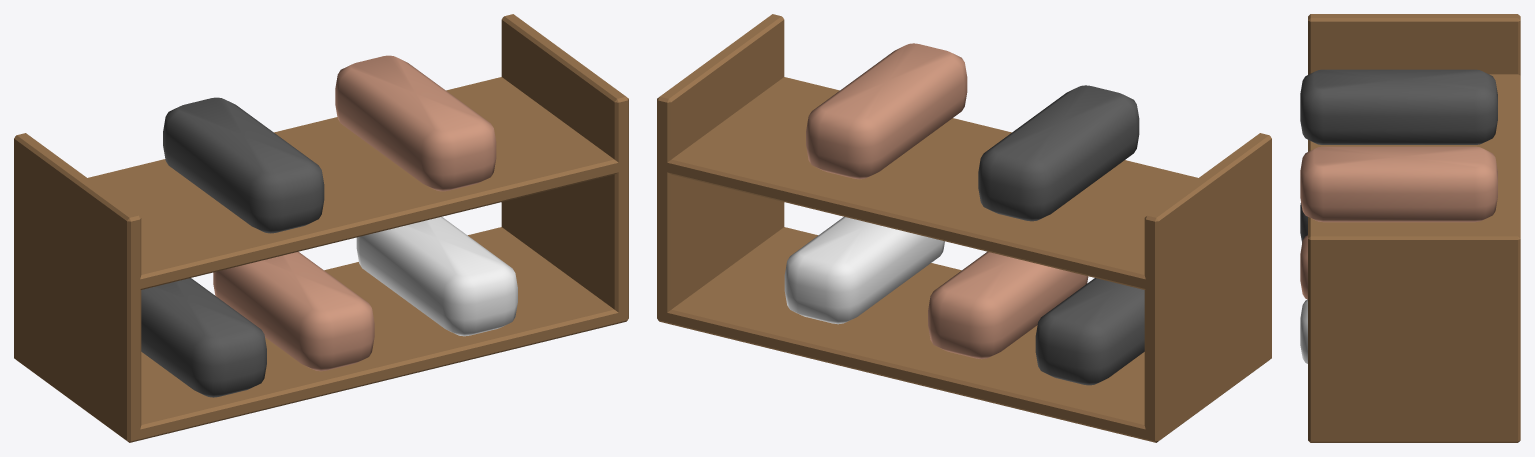
File: shoe_rack.glb
The picture shows the model from 3 angles, left to right: view 1: azimuth 30°, elevation 25°; view 2: azimuth 150°, elevation 25°; view 3: azimuth 270°, elevation 25°; orthographic projection. The views are drawn at different scales.
Visible parts, largest first — view 1: shoe_rack; view 2: shoe_rack; view 3: shoe_rack.
Part boxes in pixels (x1,y1,x2,y2): shoe_rack: (14,14,628,442); shoe_rack: (657,14,1271,442); shoe_rack: (1300,14,1520,442).
Bounding box in the file's own units: 0.7 × 0.31 × 0.29.
